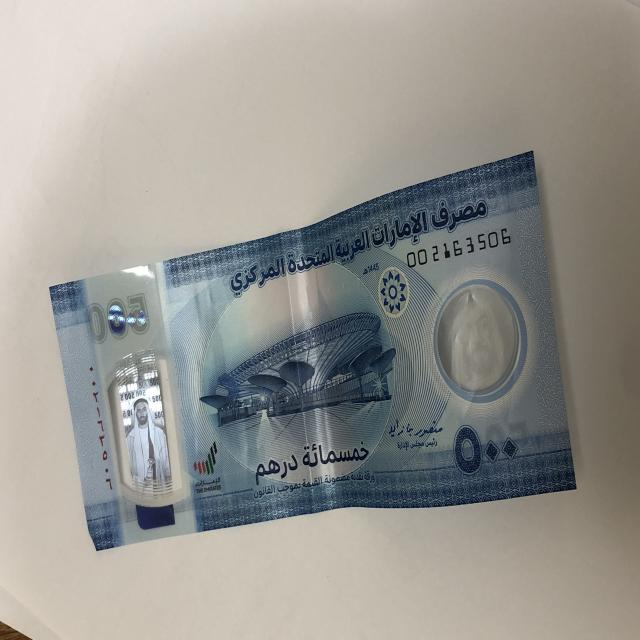500_AED: (48, 148, 580, 555)
